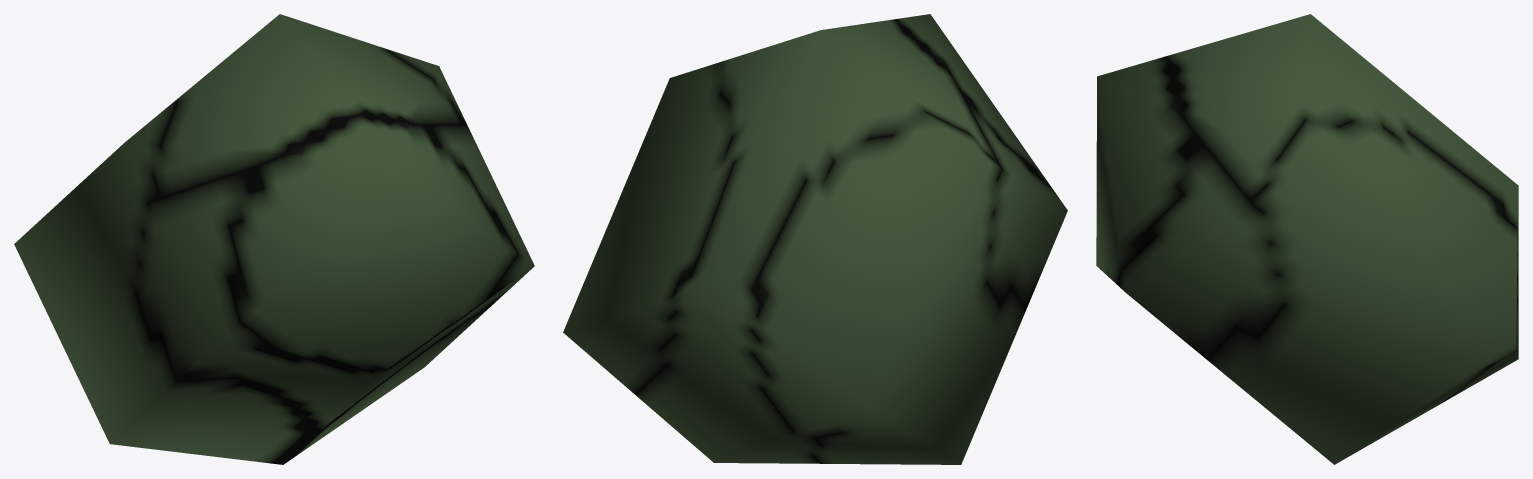
The model's file is wasp_body_isolated.fbx.
The picture shows the model from 3 angles, left to right: view 1: azimuth 30°, elevation 25°; view 2: azimuth 150°, elevation 25°; view 3: azimuth 270°, elevation 25°; orthographic projection. The views are drawn at different scales.
Parts seen in each view (by area): view 1: body; view 2: body; view 3: body.
Part boxes in pixels (bbox=[...]): body: bbox=[14, 14, 534, 464]; body: bbox=[563, 14, 1067, 464]; body: bbox=[1096, 14, 1518, 464].
Bounding box in the file's own units: 1.12 × 1.52 × 1.37.
